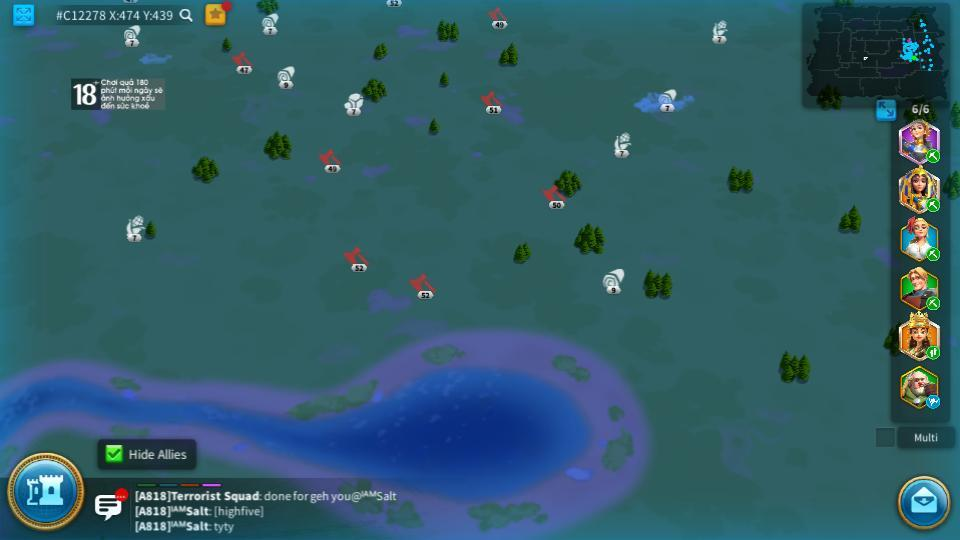march_farming: (923, 197, 940, 212), (925, 149, 941, 162), (925, 249, 941, 261)
march_idle: (925, 396, 942, 408)
march_marching: (925, 347, 941, 359), (925, 297, 942, 308)
